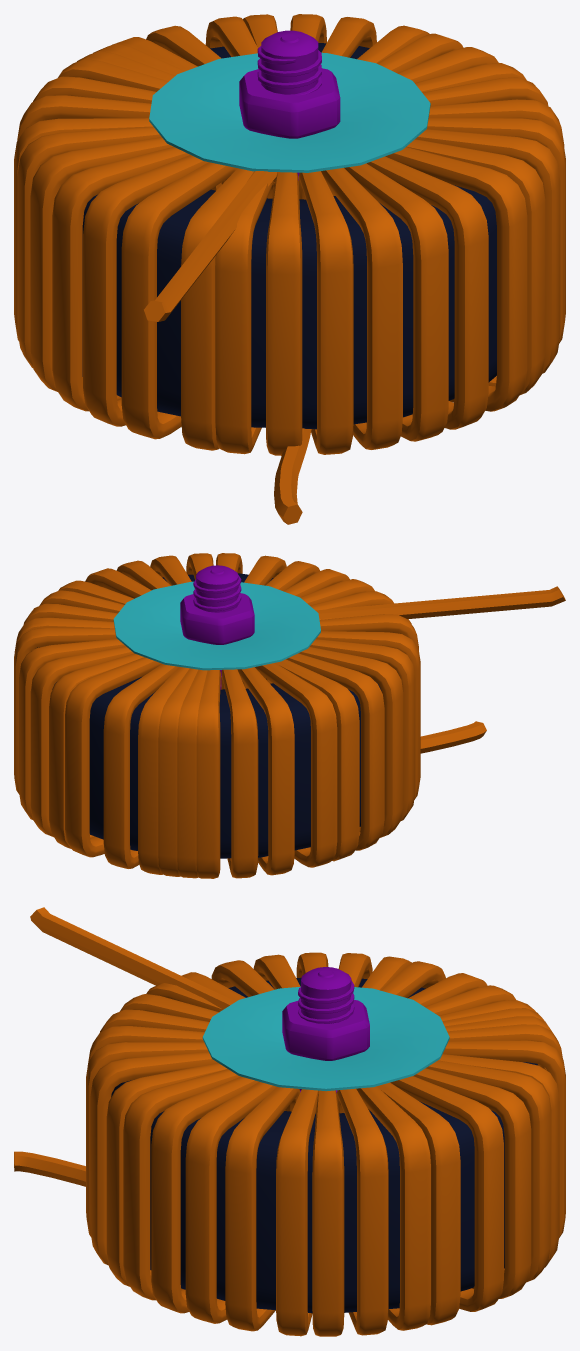
File: ind011.fbx
The picture shows the model from 3 angles, top to bottom: view 1: azimuth 30°, elevation 25°; view 2: azimuth 150°, elevation 25°; view 3: azimuth 270°, elevation 25°; orthographic projection. The views are drawn at different scales.
Parts seen in each view (by area): view 1: ind011_LOD0; view 2: ind011_LOD0; view 3: ind011_LOD0.
Boxes of the visible parts, x1,y1,x2,y2 form: ind011_LOD0: (14,14,565,524); ind011_LOD0: (14,553,565,878); ind011_LOD0: (14,907,565,1336).
Size of what is drawn, in the model's own units: 1.39 by 0.7632 by 1.39.
